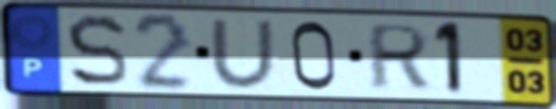0: (288, 19, 338, 93)
1: (430, 20, 466, 98)
2: (129, 10, 199, 94)
R: (365, 22, 433, 92)
S: (62, 12, 130, 90)
U: (207, 17, 280, 91)
